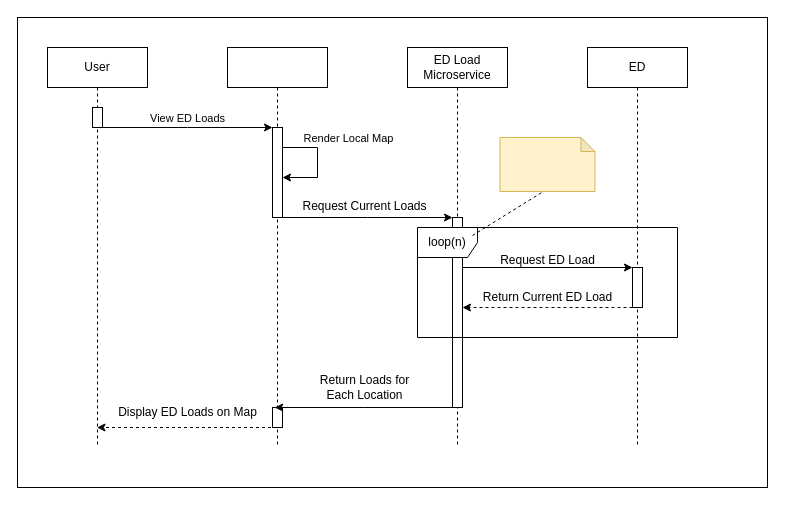
This 785x505 diagram has some shape labels left out. The box of each missing label's shape, as (x1, y1, x2, y2) in pixels:
Maps Microservice: (226, 46, 328, 448)
where 'n' is number of EDs: (499, 136, 595, 192)
